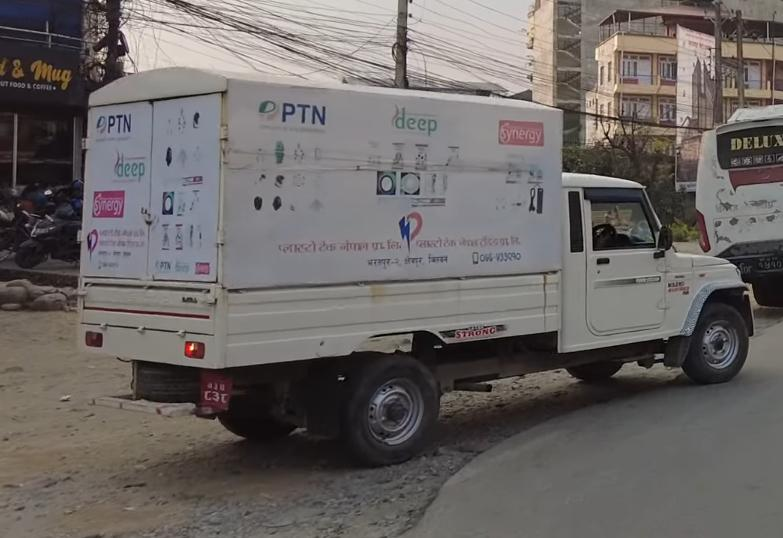bus: (682, 88, 783, 333)
scooter: (5, 185, 86, 266)
transport_vehicle: (77, 53, 758, 455)
